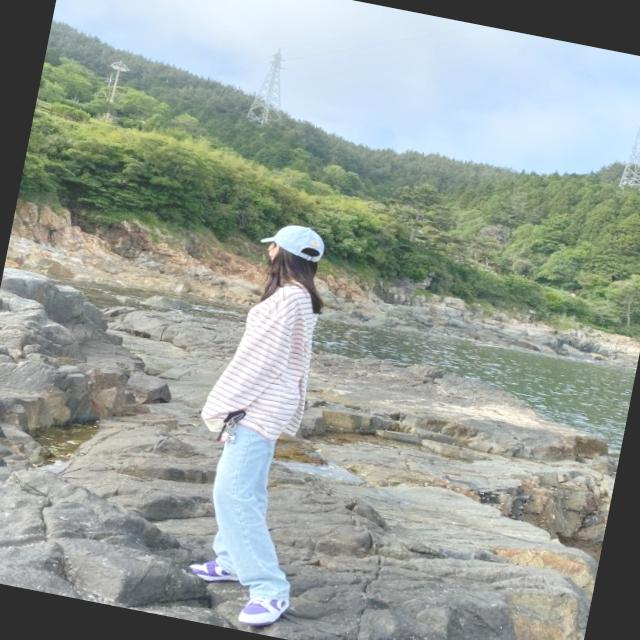denimpants: (196, 416, 322, 603)
longsleeve: (196, 276, 326, 452)
